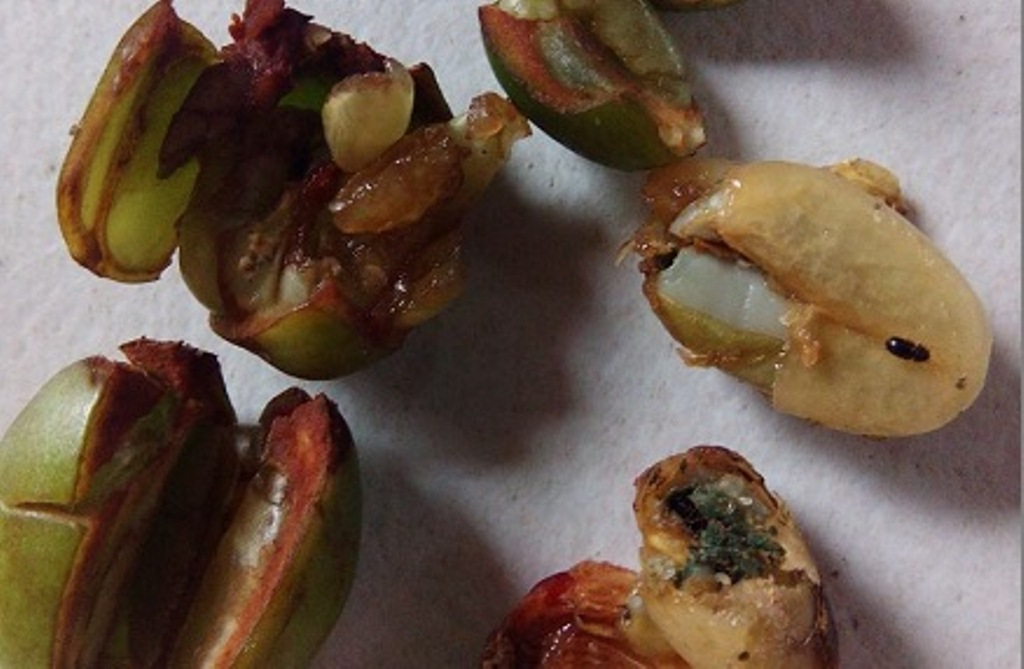broca de cafe: (145, 1, 414, 377), (740, 94, 997, 445), (570, 443, 829, 669)
